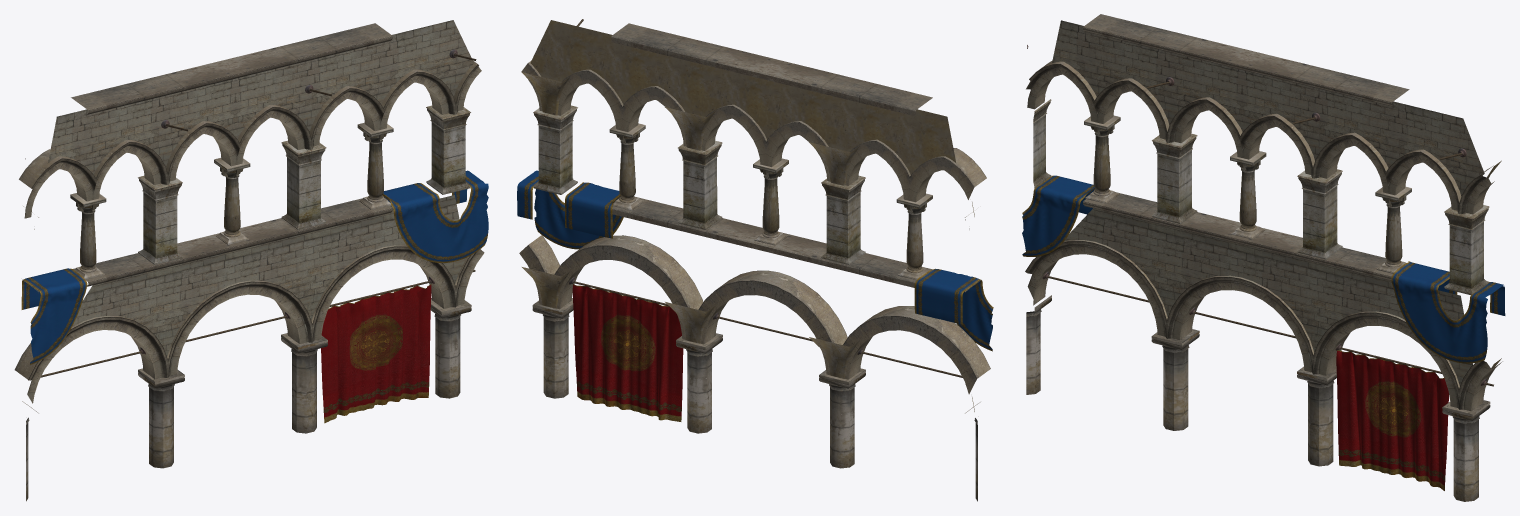
The model's file is hero-observatory.glb.
The picture shows the model from 3 angles, left to right: view 1: azimuth 30°, elevation 25°; view 2: azimuth 150°, elevation 25°; view 3: azimuth 330°, elevation 25°; orthographic projection.
Visible parts, largest first — view 1: Aetherfall Hero Observatory; view 2: Aetherfall Hero Observatory; view 3: Aetherfall Hero Observatory.
Part boxes in pixels (<box>): Aetherfall Hero Observatory: <box>14,20,488,501</box>; Aetherfall Hero Observatory: <box>517,19,993,501</box>; Aetherfall Hero Observatory: <box>1022,14,1505,501</box>.
Size of the model in its own units: 9.44 by 7.46 by 1.52.
9 materials, 9 textured.
